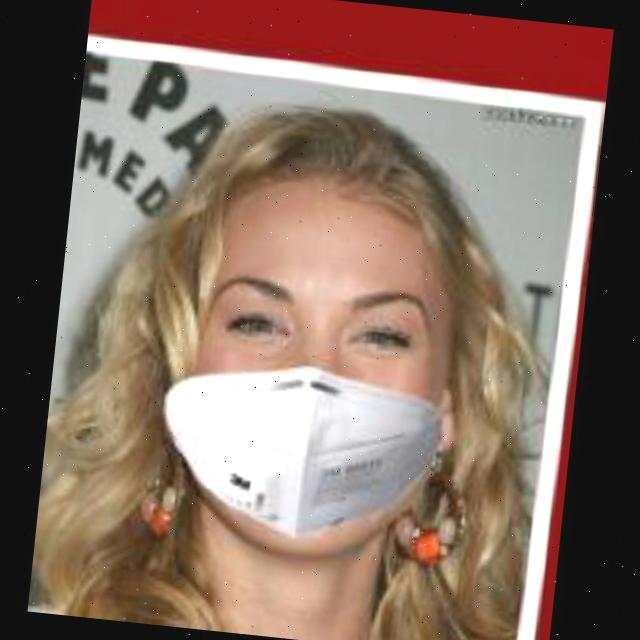suspicion: (134, 119, 518, 575)
